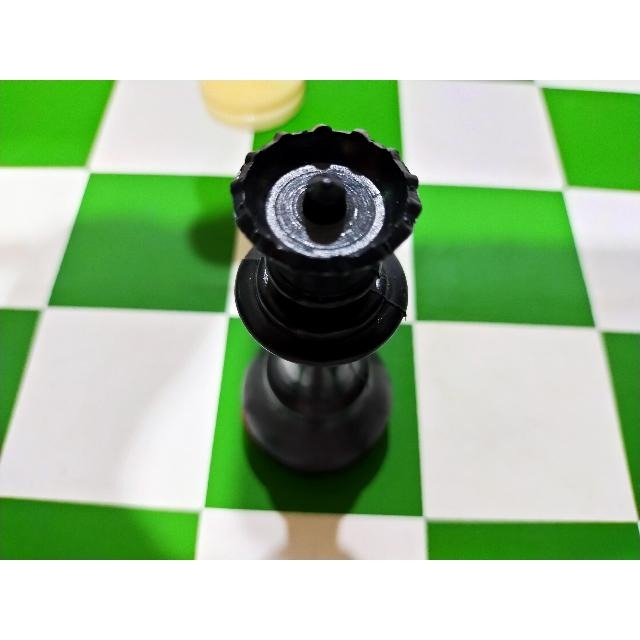black-queen: (220, 114, 428, 483)
